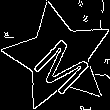M_NE: (24, 23, 93, 91)
